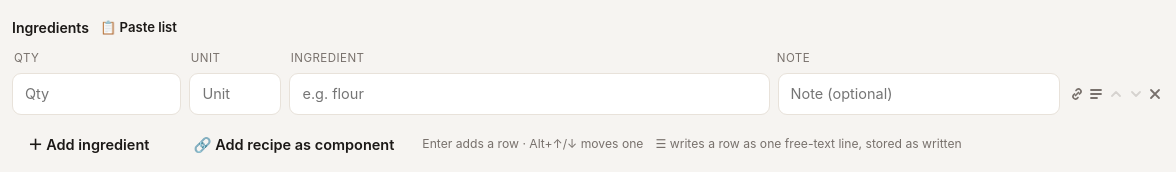
Test: IngredientRows undo + reorder safety › the free-text toggle collapses the row to a single input
This screenshot has width=1176, height=172.
Click the button named "Write this line as free text" at x=1096, y=94, box x1=1088 y1=80 x2=1105 y2=108
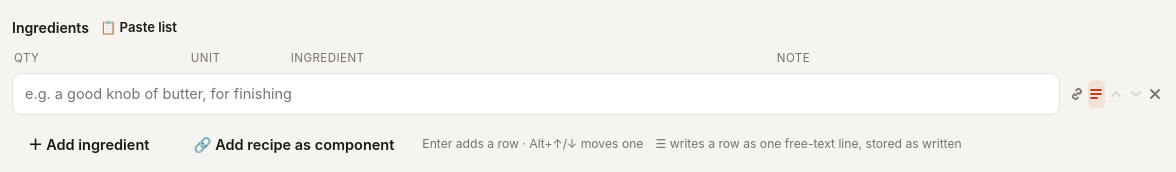
Expected: the number of fields with class "ftxt" is 1, x1=12 y1=73 x2=1060 y2=115
